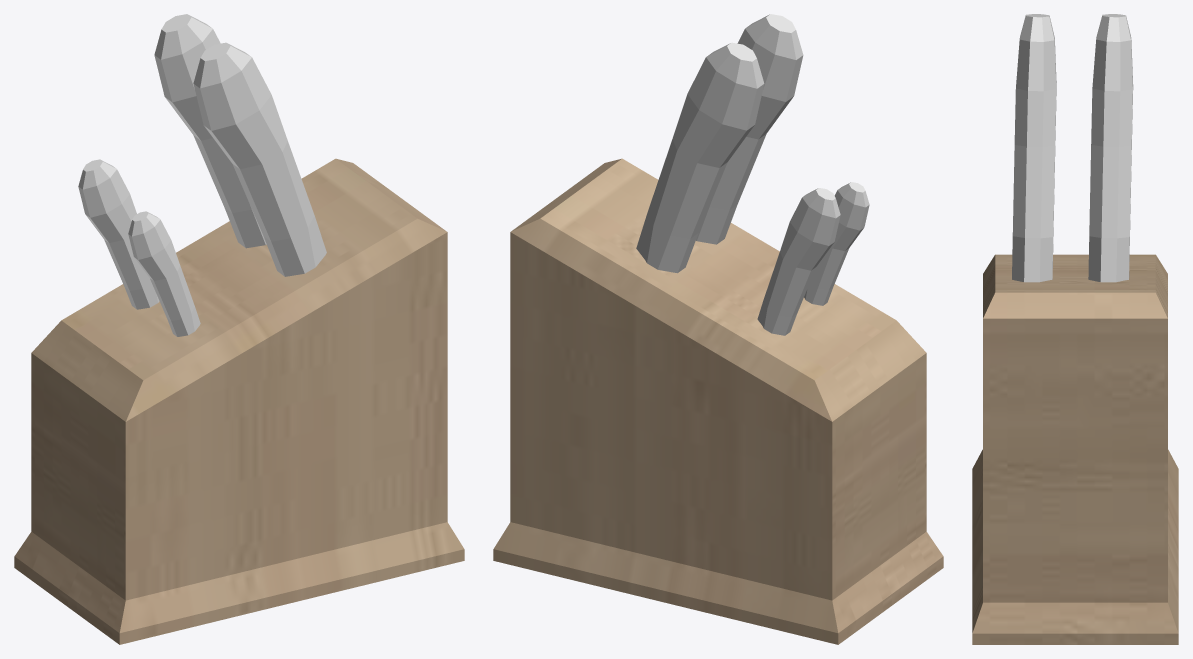
Rendered from knives.fbx.
3 renders of one model, left to right at view 1: azimuth 30°, elevation 25°; view 2: azimuth 150°, elevation 25°; view 3: azimuth 270°, elevation 25°, orthographic. The views are drawn at different scales.
Visible parts, largest first — view 1: Knives, Knives.001; view 2: Knives, Knives.001; view 3: Knives, Knives.001.
Part boxes in pixels (x1,y1,x2,y2): Knives: [14, 158, 464, 644]; Knives.001: [78, 14, 326, 336]; Knives: [493, 158, 943, 644]; Knives.001: [636, 14, 869, 335]; Knives: [972, 254, 1178, 644]; Knives.001: [1012, 14, 1133, 282].
Bounding box in the file's own units: 58.28 × 87.53 × 30.8.
